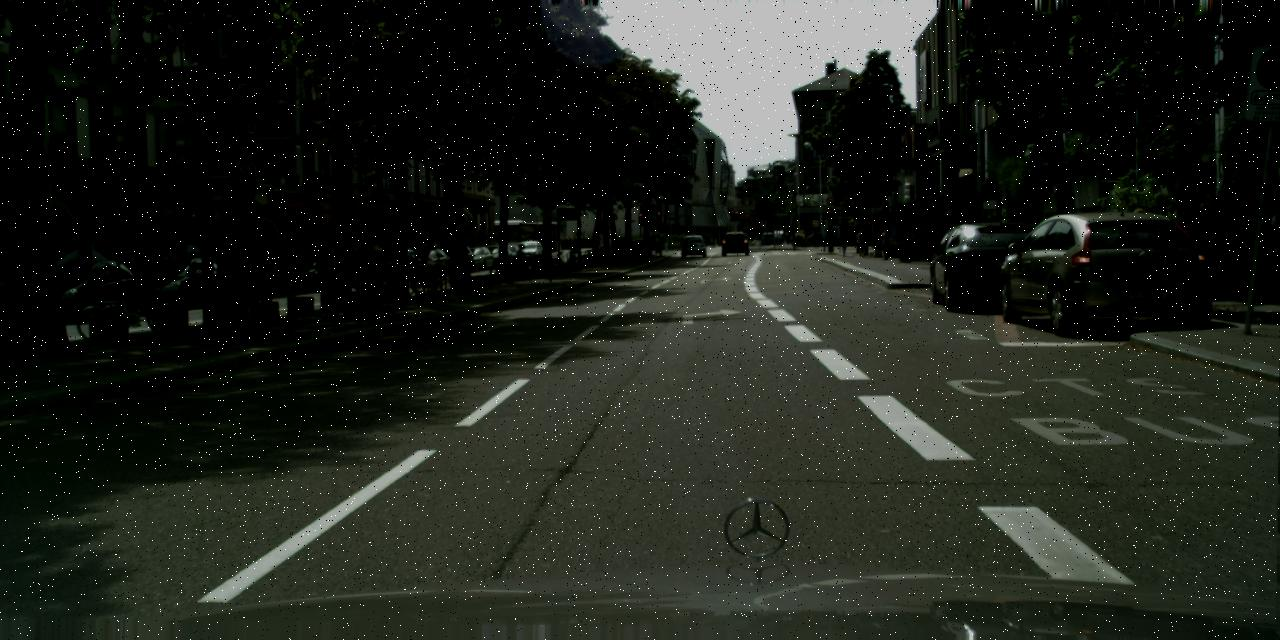ped: (229, 200, 287, 342), (1135, 206, 1176, 306), (1119, 208, 1159, 306), (311, 227, 348, 319), (878, 220, 892, 260), (422, 242, 434, 274), (856, 228, 868, 256), (839, 232, 849, 257), (809, 229, 814, 242), (786, 234, 790, 244)
